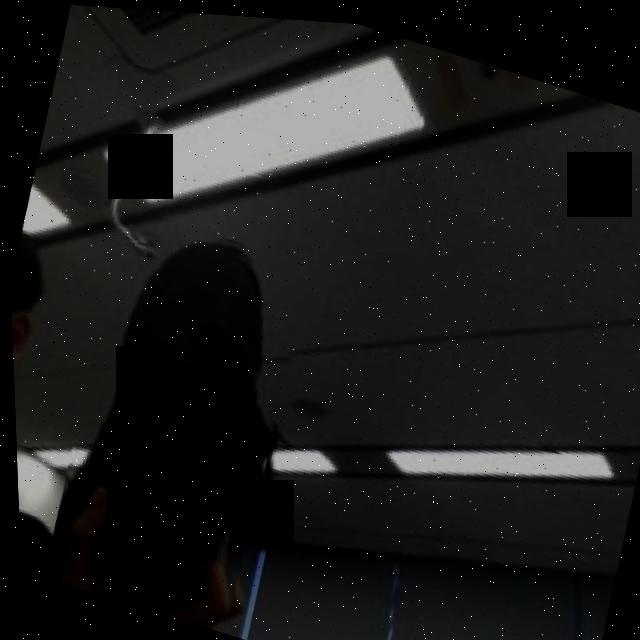shoe: (28, 196, 325, 638)
